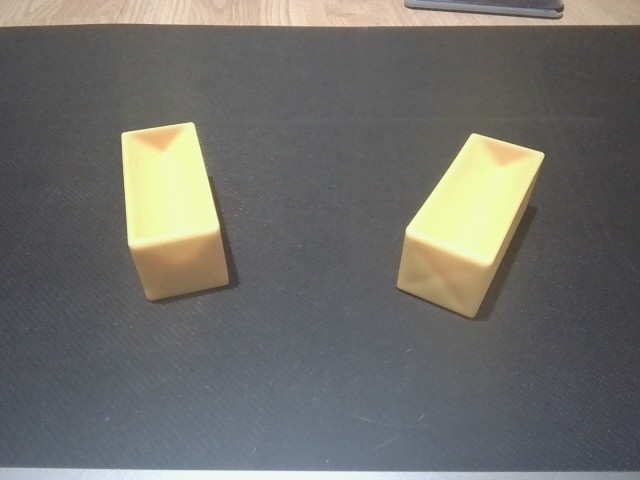YellowSample: (394, 129, 548, 325), (114, 120, 234, 304)
